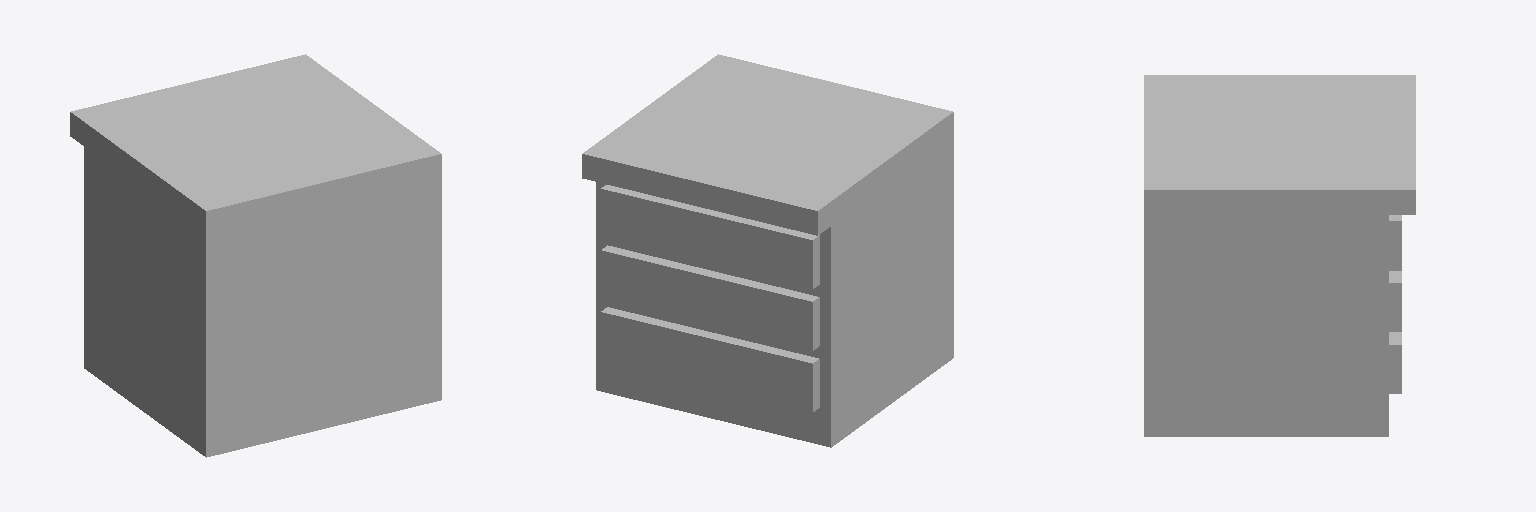
The model's file is cupboard_collider.obj.
3 views of the same model, side by side, from view 1: azimuth 30°, elevation 25°; view 2: azimuth 150°, elevation 25°; view 3: azimuth 270°, elevation 25° (orthographic).
Parts seen in each view (by area): view 1: Cube.002_Cube.003, Cube.004; view 2: Cube.004, Cube.002_Cube.003, Cube.007_Cube.005, Cube.005, Cube.006_Cube.005; view 3: Cube.002_Cube.003, Cube.004, Cube.007_Cube.005, Cube.005, Cube.006_Cube.005.
Part boxes in pixels (left/top/right/bottom): Cube.002_Cube.003: left=84, top=147, right=441, bottom=457; Cube.004: left=70, top=54, right=441, bottom=235; Cube.004: left=582, top=54, right=953, bottom=235; Cube.002_Cube.003: left=596, top=137, right=953, bottom=447; Cube.007_Cube.005: left=601, top=307, right=819, bottom=412; Cube.005: left=601, top=245, right=819, bottom=350; Cube.006_Cube.005: left=601, top=185, right=819, bottom=289; Cube.002_Cube.003: left=1144, top=215, right=1388, bottom=436; Cube.004: left=1144, top=75, right=1415, bottom=214; Cube.007_Cube.005: left=1389, top=332, right=1401, bottom=393; Cube.005: left=1389, top=271, right=1401, bottom=331; Cube.006_Cube.005: left=1389, top=215, right=1401, bottom=270.
Size of the model in its own units: 2 by 2 by 2.